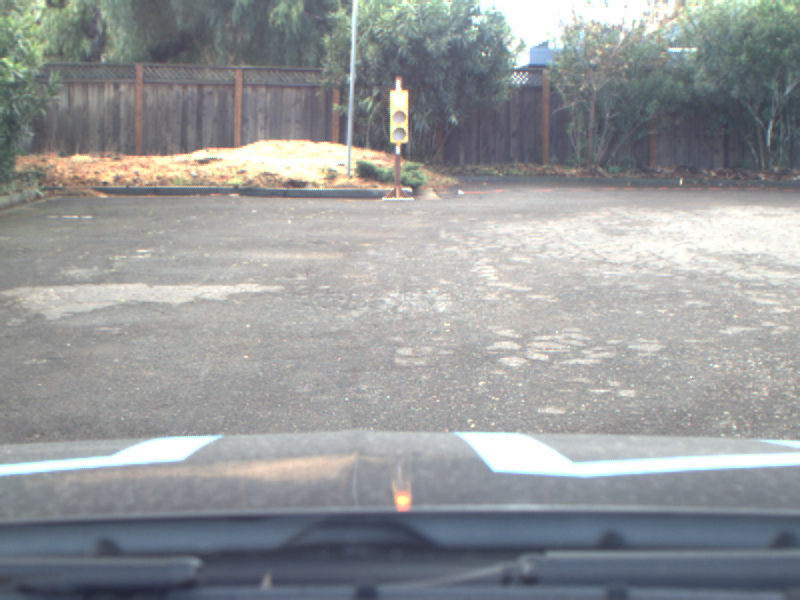Red: (388, 88, 411, 144)
